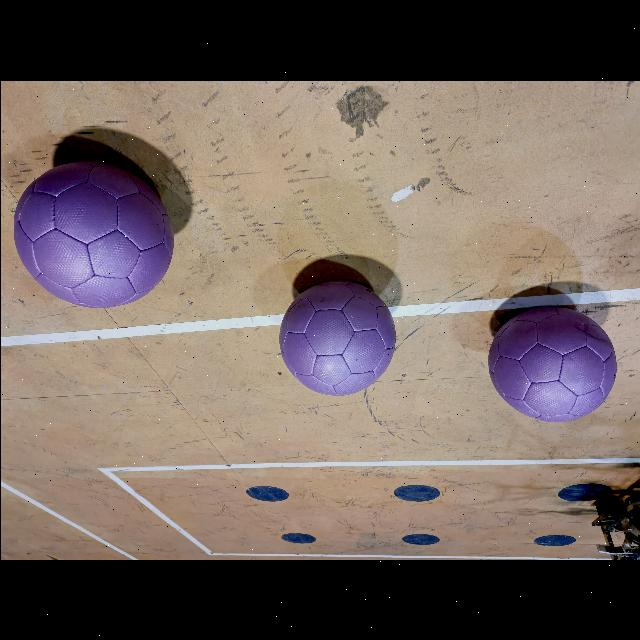P: (14, 161, 172, 307), (488, 306, 616, 422), (280, 280, 394, 396)
